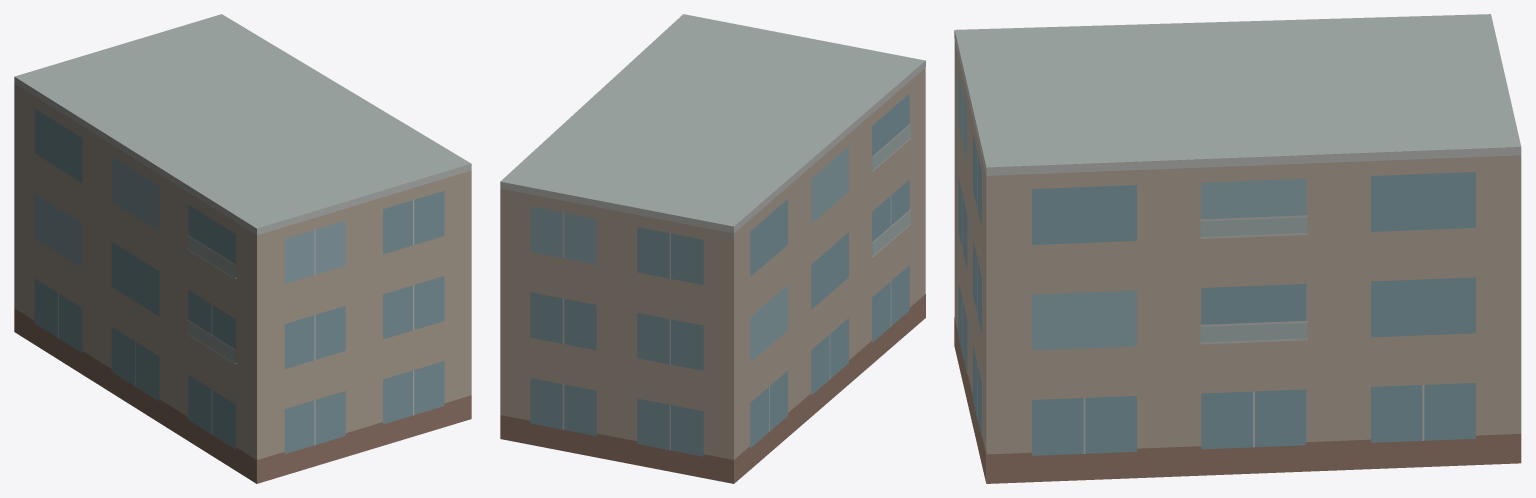
The model's file is survey-upis-32699409.glb.
The picture shows the model from 3 angles, left to right: view 1: azimuth 30°, elevation 25°; view 2: azimuth 150°, elevation 25°; view 3: azimuth 270°, elevation 25°; orthographic projection. The views are drawn at different scales.
Visible parts, largest first — view 1: survey-upis-32699409.tmp; view 2: survey-upis-32699409.tmp; view 3: survey-upis-32699409.tmp.
Part boxes in pixels (bbox=[...]): survey-upis-32699409.tmp: bbox=[14, 14, 471, 483]; survey-upis-32699409.tmp: bbox=[500, 14, 925, 483]; survey-upis-32699409.tmp: bbox=[954, 14, 1521, 483].
Size of the model in its own units: 9.53 by 9.15 by 14.87.
